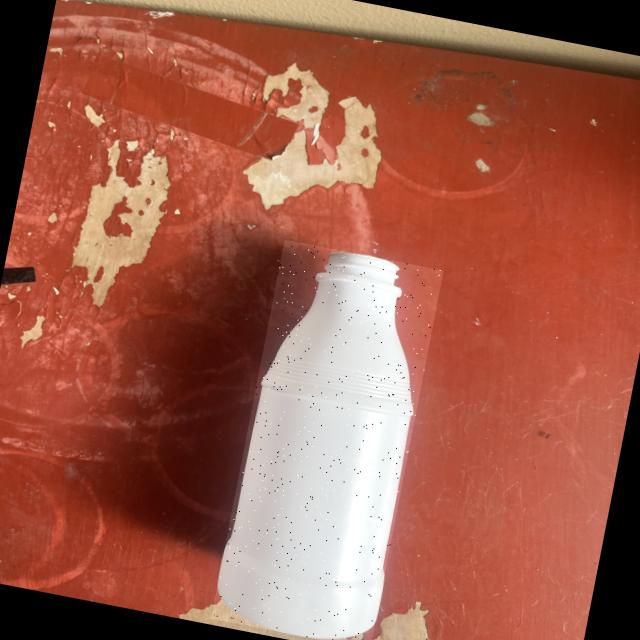HDPE_Bottle: (218, 253, 412, 638)
